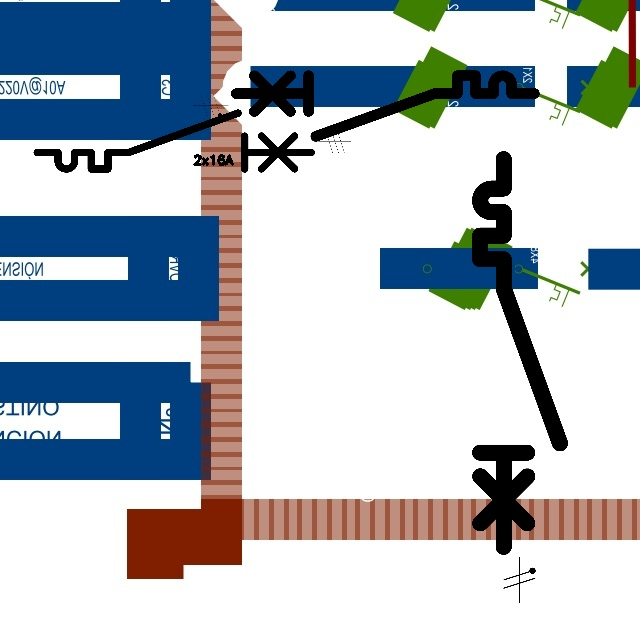interruptor_termomagnetico: (470, 149, 569, 556), (228, 68, 541, 144), (30, 106, 319, 176)
